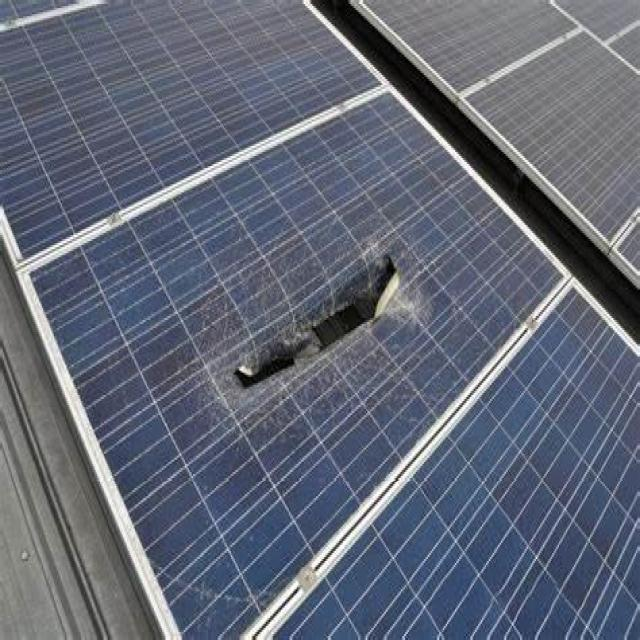cracked: (46, 93, 546, 632)
